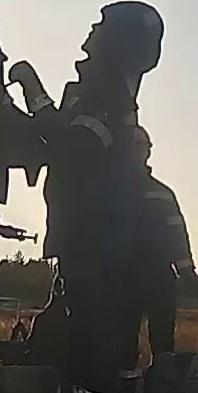gloves: (6, 58, 55, 117)
helmet: (81, 0, 163, 44), (135, 125, 155, 157)
vest: (42, 81, 138, 251), (135, 175, 184, 297)
